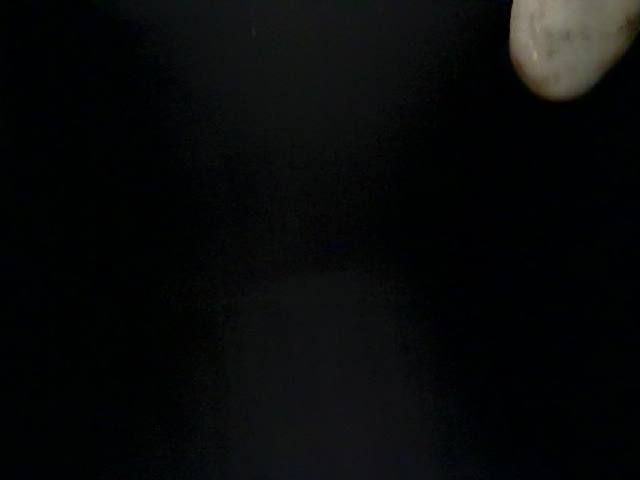QTLJ: (134, 19, 389, 253)
